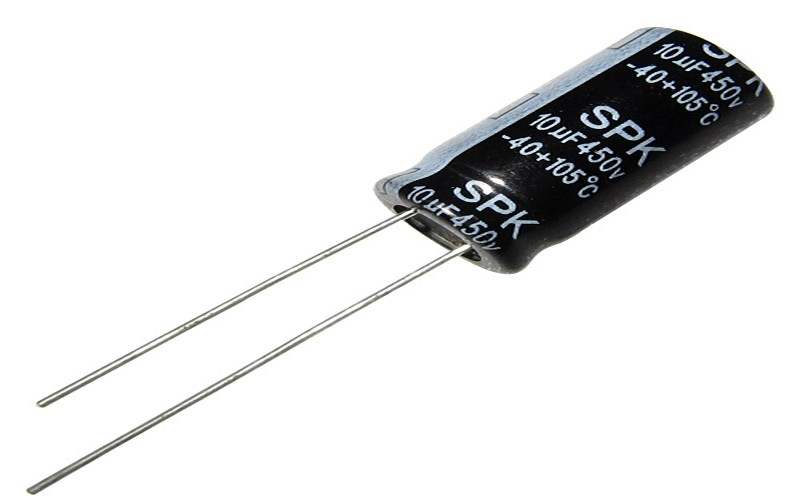Capacitor: (20, 18, 787, 499)
